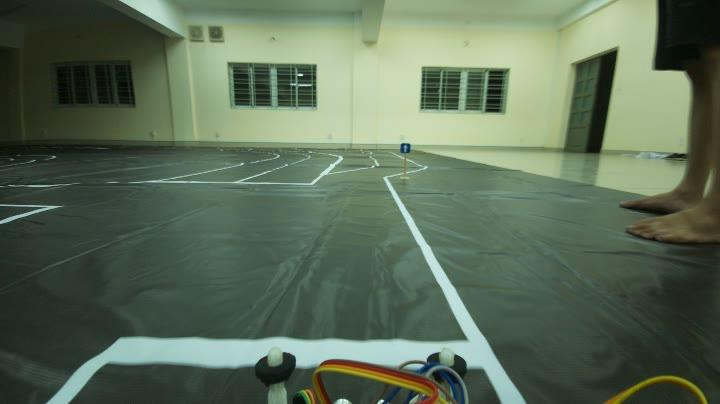onewayroad: (398, 140, 414, 156)
